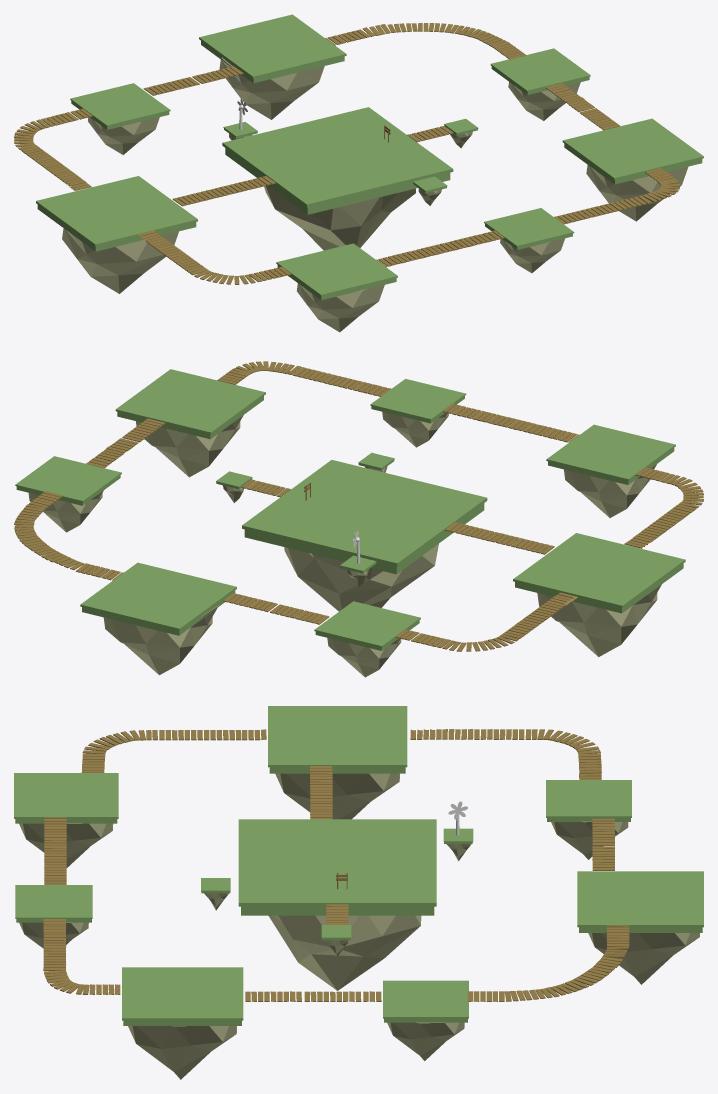
The model's file is floating-island-flat.fbx.
3 views of the same model, one above another, from view 1: azimuth 30°, elevation 25°; view 2: azimuth 150°, elevation 25°; view 3: azimuth 270°, elevation 25° (orthographic). The views are drawn at different scales.
Parts seen in each view (by area): view 1: Cube.020, Cube.043, Cube.049, Cube.046, Cube.044, Icosphere, Icosphere.007, Cube.052, Cube.048, Icosphere.014, Cube.045, Icosphere.008 (+5 smaller); view 2: Cube.020, Cube.043, Cube.049, Cube.046, Cube.044, Icosphere, Icosphere.007, Cube.052, Icosphere.014, Cube.048, Icosphere.010, Cube.045 (+5 smaller); view 3: Cube.020, Cube.043, Cube.049, Cube.046, Icosphere, Cube.044, Cube.048, Cube.052, Icosphere.010, Icosphere.007, Cube.045, Icosphere.014 (+5 smaller).
Boxes of the visible parts, <box> form: Cube.020: <box>222,107,452,214</box>; Cube.043: <box>36,176,197,251</box>; Cube.049: <box>199,14,346,83</box>; Cube.046: <box>562,118,703,184</box>; Cube.044: <box>276,243,397,300</box>; Icosphere: <box>264,185,415,250</box>; Icosphere.007: <box>62,228,178,293</box>; Cube.052: <box>70,83,170,129</box>; Cube.048: <box>490,48,590,94</box>; Icosphere.014: <box>219,57,324,119</box>; Cube.045: <box>484,208,574,249</box>; Icosphere.008: <box>297,283,384,332</box>; Cube.020: <box>242,460,487,573</box>; Cube.043: <box>513,533,685,613</box>; Cube.049: <box>80,562,236,635</box>; Cube.046: <box>115,369,265,439</box>; Cube.044: <box>546,424,675,484</box>; Icosphere: <box>284,544,438,611</box>; Icosphere.007: <box>537,584,661,656</box>; Cube.052: <box>314,601,420,650</box>; Icosphere.014: <box>103,605,218,675</box>; Cube.048: <box>15,456,121,505</box>; Icosphere.010: <box>136,415,243,477</box>; Cube.045: <box>370,379,466,423</box>; Cube.020: <box>238,819,436,913</box>; Cube.043: <box>268,706,407,773</box>; Cube.049: <box>577,871,703,932</box>; Cube.046: <box>122,967,243,1025</box>; Icosphere: <box>268,915,421,990</box>; Cube.044: <box>14,773,118,823</box>; Cube.048: <box>383,980,468,1022</box>; Cube.052: <box>546,780,631,821</box>; Icosphere.010: <box>128,1026,236,1079</box>; Icosphere.007: <box>275,773,399,819</box>; Cube.045: <box>15,885,92,922</box>; Icosphere.014: <box>588,933,699,984</box>.
Bounding box in the file's own units: 13819 × 3381 × 12888.
